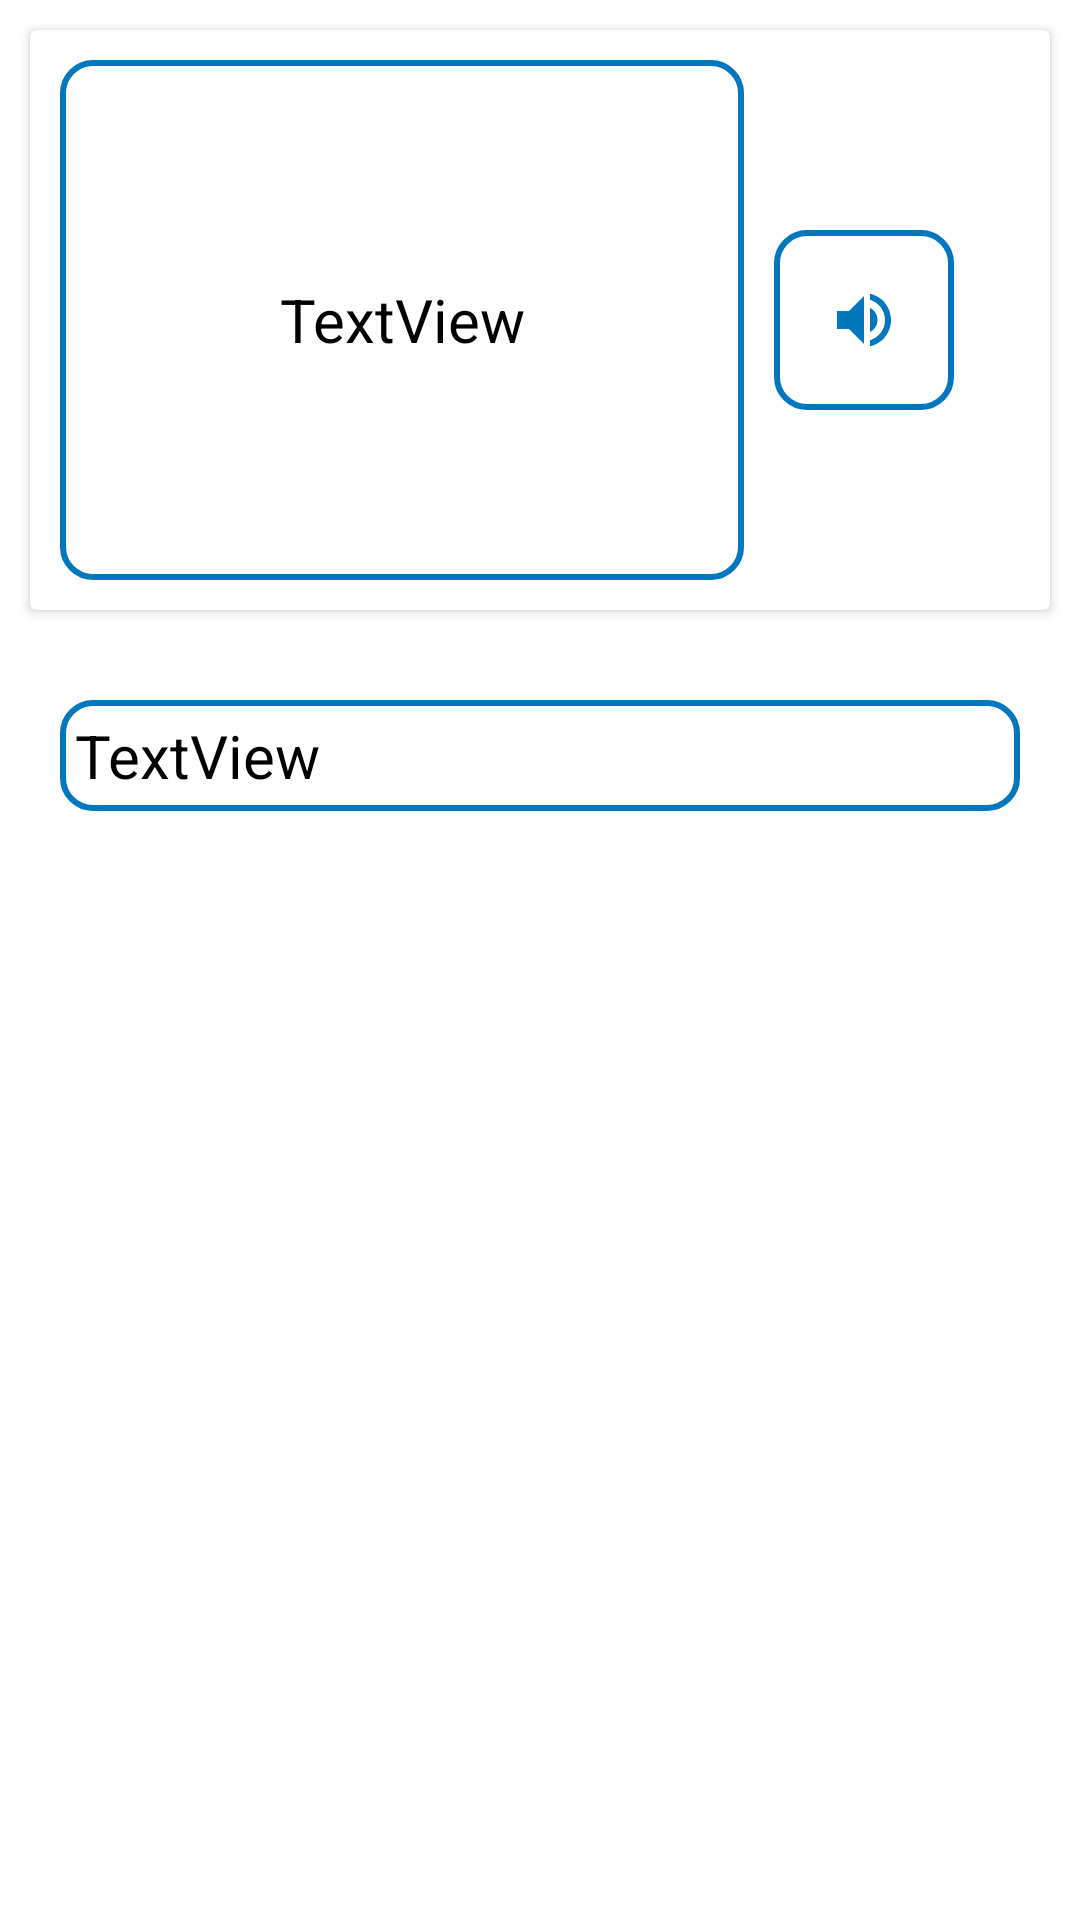

Screen size 1080px x 1920px. Icon name, then its box in pixels as [x1,y1,x2,y2]:
volume up: [774,230,954,410]
